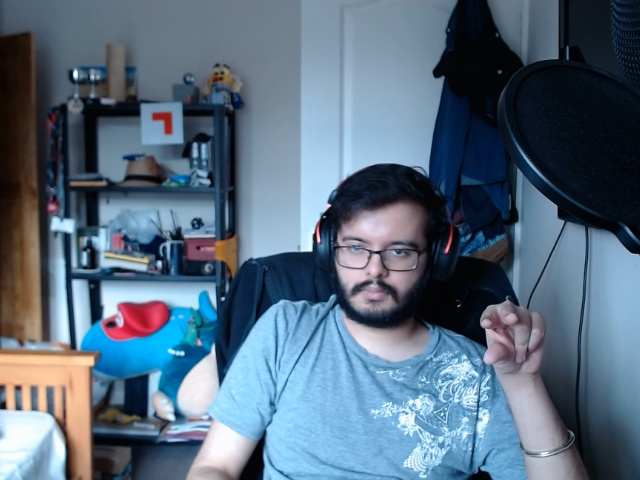No: (465, 289, 558, 395)
